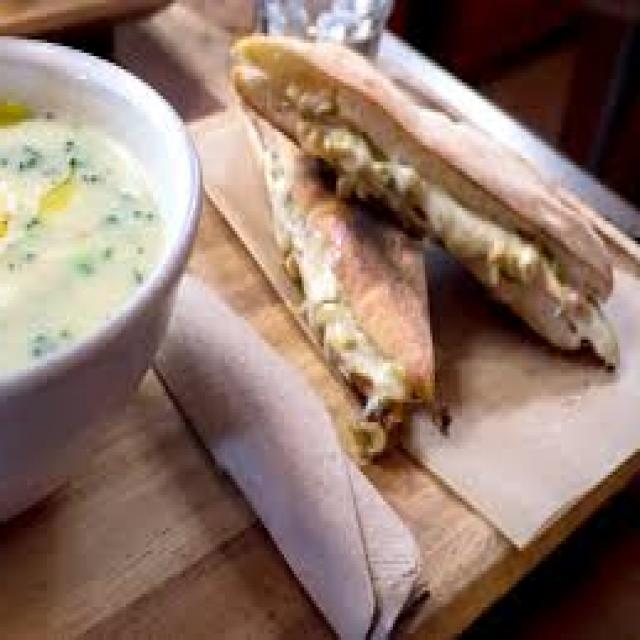Sandwich: (222, 26, 620, 458)
